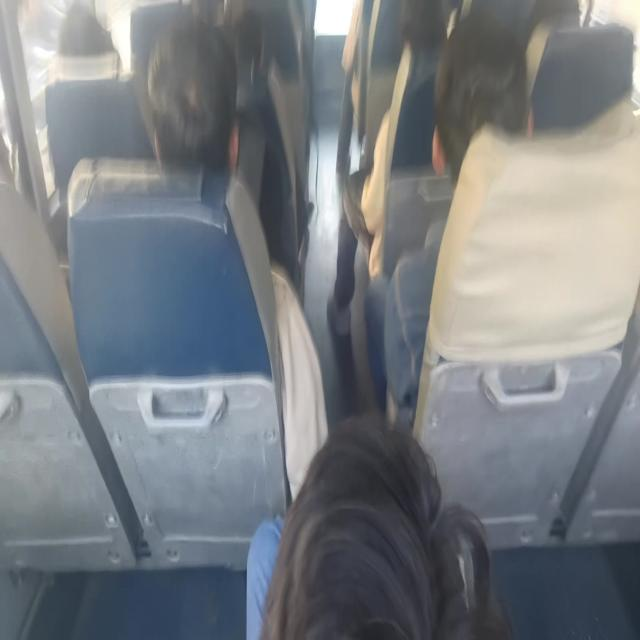person: (267, 410, 507, 640), (431, 20, 527, 165), (151, 38, 241, 168), (198, 0, 269, 72), (58, 0, 113, 59), (400, 0, 445, 53)
